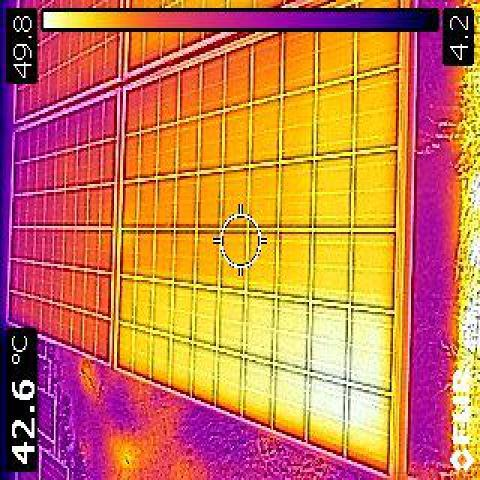fault: (118, 280, 393, 471)
